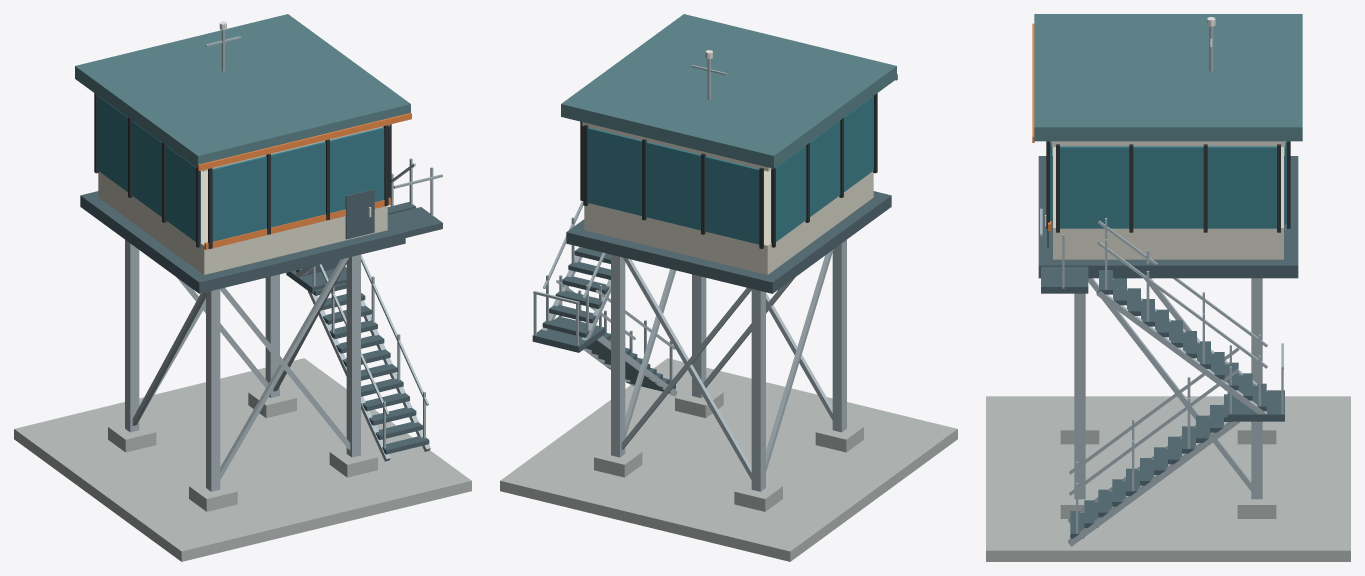
Rendered from control-tower.glb.
The picture shows the model from 3 angles, left to right: view 1: azimuth 30°, elevation 25°; view 2: azimuth 150°, elevation 25°; view 3: azimuth 270°, elevation 25°; orthographic projection. The views are drawn at different scales.
Parts seen in each view (by area): view 1: TowerFoundation, TowerRoof, TowerStructure, TowerGlazing, TowerStairs, TowerBoothShell, TowerWindowFrames, TowerTrim; view 2: TowerFoundation, TowerRoof, TowerStructure, TowerGlazing, TowerStairs, TowerBoothShell, TowerWindowFrames; view 3: TowerFoundation, TowerRoof, TowerGlazing, TowerStairs, TowerStructure, TowerBoothShell, TowerWindowFrames.
Boxes of the visible parts, box(x1,y1,x2,y2) form: TowerFoundation: box(14, 358, 471, 561); TowerRoof: box(75, 14, 410, 168); TowerStructure: box(125, 30, 442, 491); TowerGlazing: box(98, 96, 384, 242); TowerStairs: box(80, 189, 442, 454); TowerBoothShell: box(98, 124, 389, 274); TowerWindowFrames: box(94, 93, 391, 248); TowerTrim: box(198, 113, 411, 249); TowerFoundation: box(500, 358, 957, 561); TowerRoof: box(561, 14, 896, 168); TowerStructure: box(533, 59, 846, 491); TowerGlazing: box(587, 96, 873, 244); TowerStairs: box(532, 191, 891, 393); TowerBoothShell: box(582, 122, 873, 274); TowerWindowFrames: box(580, 93, 877, 248); TowerFoundation: box(986, 396, 1350, 561); TowerRoof: box(1034, 14, 1302, 141); TowerGlazing: box(1050, 141, 1286, 228); TowerStairs: box(1038, 156, 1298, 538); TowerStructure: box(1040, 26, 1283, 546); TowerBoothShell: box(1051, 141, 1285, 259); TowerWindowFrames: box(1046, 141, 1290, 232).
Bounding box in the file's own units: 6.4 × 9.02 × 6.4.
